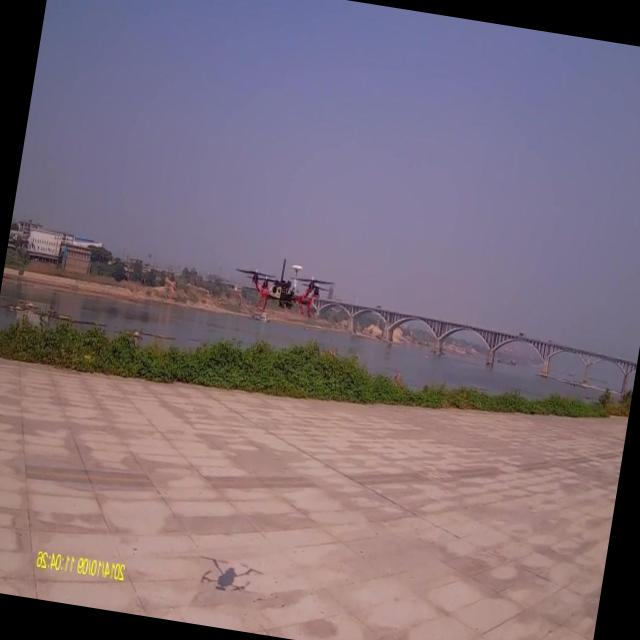drone: (232, 249, 334, 327)
